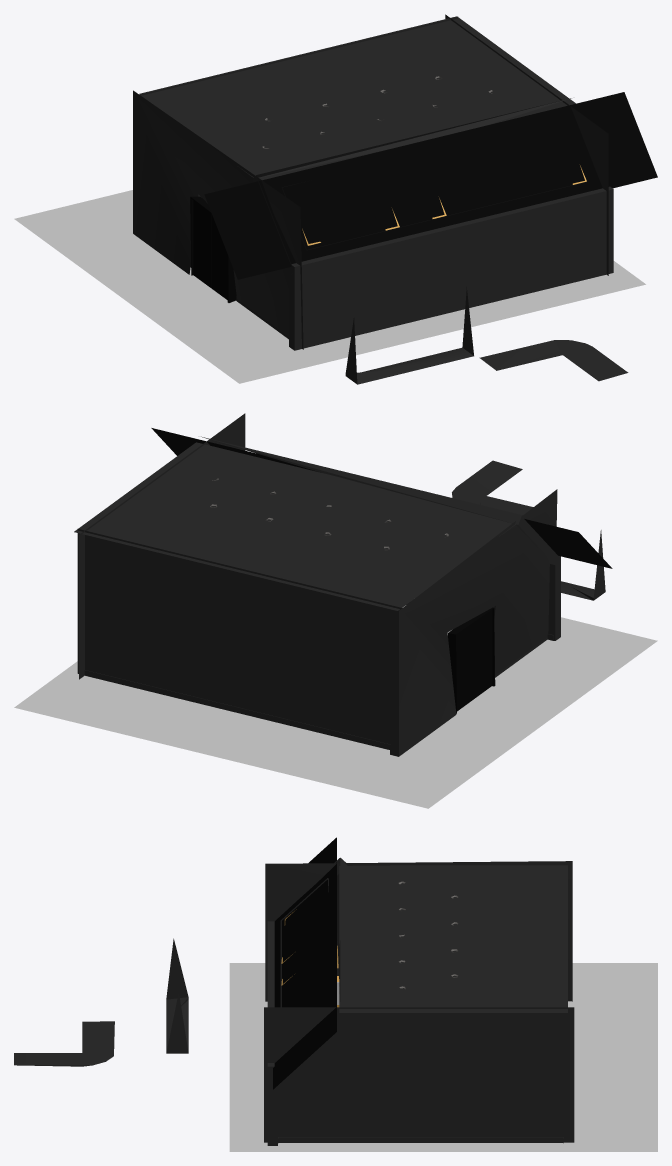
Rendered from OfficeOBJ.dae.
3 renders of one model, top to bottom at view 1: azimuth 30°, elevation 25°; view 2: azimuth 150°, elevation 25°; view 3: azimuth 270°, elevation 25°, orthographic. The views are drawn at different scales.
Parts seen in each view (by area): view 1: pPlane3, pPlane2, pCube3, pPlane1, polySurface10, pCube21, polySurface2 group1, pCube20, pCube1, group2 pCube27, group2 pCube26, pCube2 (+1 smaller); view 2: pCube2, pPlane2, pPlane1, polySurface10, polySurface2 group1, pPlane3, pCube21, pCube29, pCube1, group2 pCube26, group2 pCube27, pCube3 (+2 smaller); view 3: pCube1, pPlane2, pPlane1, pPlane3, polySurface10, pCube21, pCube20, pCube30, pCube3, polySurface2 group1.
Part boxes in pixels (<box>): pPlane3: <box>204,92,657,279</box>; pPlane2: <box>139,16,575,180</box>; pCube3: <box>289,186,613,350</box>; pPlane1: <box>14,190,645,383</box>; polySurface10: <box>133,90,303,349</box>; pCube21: <box>479,340,628,381</box>; polySurface2 group1: <box>252,98,587,275</box>; pCube20: <box>345,287,473,384</box>; pCube1: <box>445,14,608,275</box>; group2 pCube27: <box>193,200,211,288</box>; group2 pCube26: <box>211,214,227,299</box>; pCube2: <box>139,17,458,197</box>; pCube2: <box>77,529,401,744</box>; pPlane2: <box>74,442,515,610</box>; pPlane1: <box>14,605,657,808</box>; polySurface10: <box>390,489,557,756</box>; polySurface2 group1: <box>201,436,560,566</box>; pPlane3: <box>151,428,612,568</box>; pCube21: <box>452,460,533,515</box>; pCube29: <box>84,670,390,749</box>; pCube1: <box>79,413,245,679</box>; group2 pCube26: <box>473,610,492,698</box>; group2 pCube27: <box>457,623,473,711</box>; pCube3: <box>548,556,560,640</box>; pCube1: <box>264,1007,574,1142</box>; pPlane2: <box>339,865,567,1012</box>; pPlane1: <box>229,963,657,1151</box>; pPlane3: <box>273,837,336,1089</box>; polySurface10: <box>265,861,572,1001</box>; pCube21: <box>14,1021,114,1066</box>; pCube20: <box>166,938,188,1053</box>; pCube30: <box>278,1137,562,1142</box>; pCube3: <box>267,921,277,1145</box>; polySurface2 group1: <box>280,857,347,1007</box>.
Bounding box in the file's own units: 23.43 × 7.87 × 31.15.
